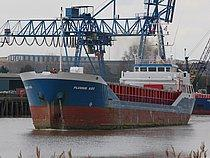Ship: (14, 36, 201, 134)
